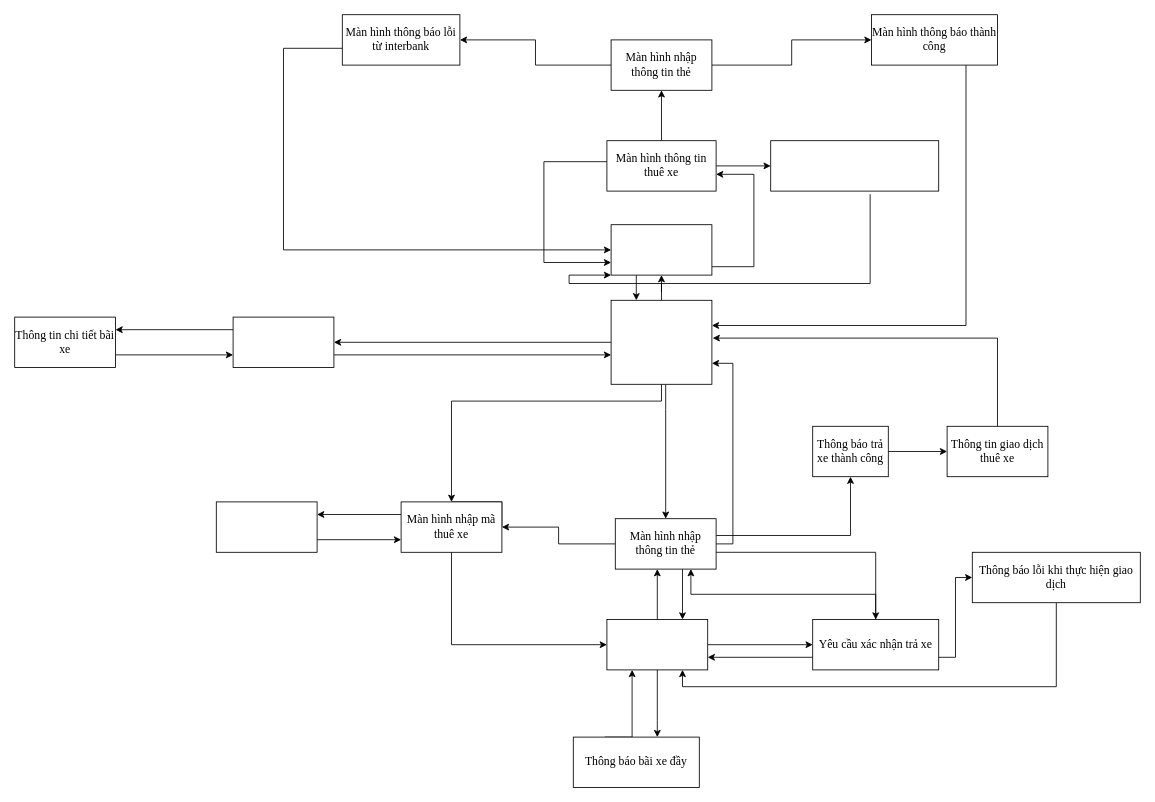
Some shapes in this 1155 by 802 pixel diagram are drawn without their labels. Each missing label, with the centre of its shape:
"Danh sách bãi xe" belongs at point (657, 644).
"MainScreen" belongs at point (661, 341).
"Màn hình thuê xe" belongs at point (661, 249).
"Màn hình thông báo lỗi barcode" belongs at point (854, 165).
"Thông báo mã thuê xe không hợp lệ" belongs at point (266, 526).
"Thông tin chi tiết xe" belongs at point (283, 342).
